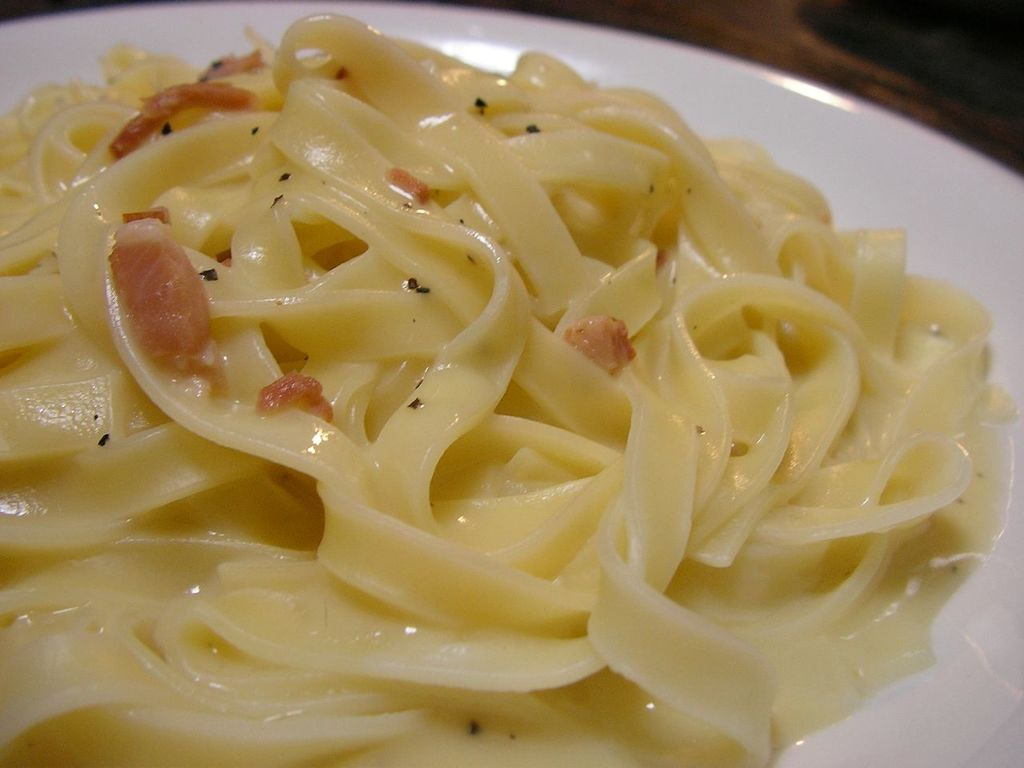pasta: (13, 0, 1024, 743)
